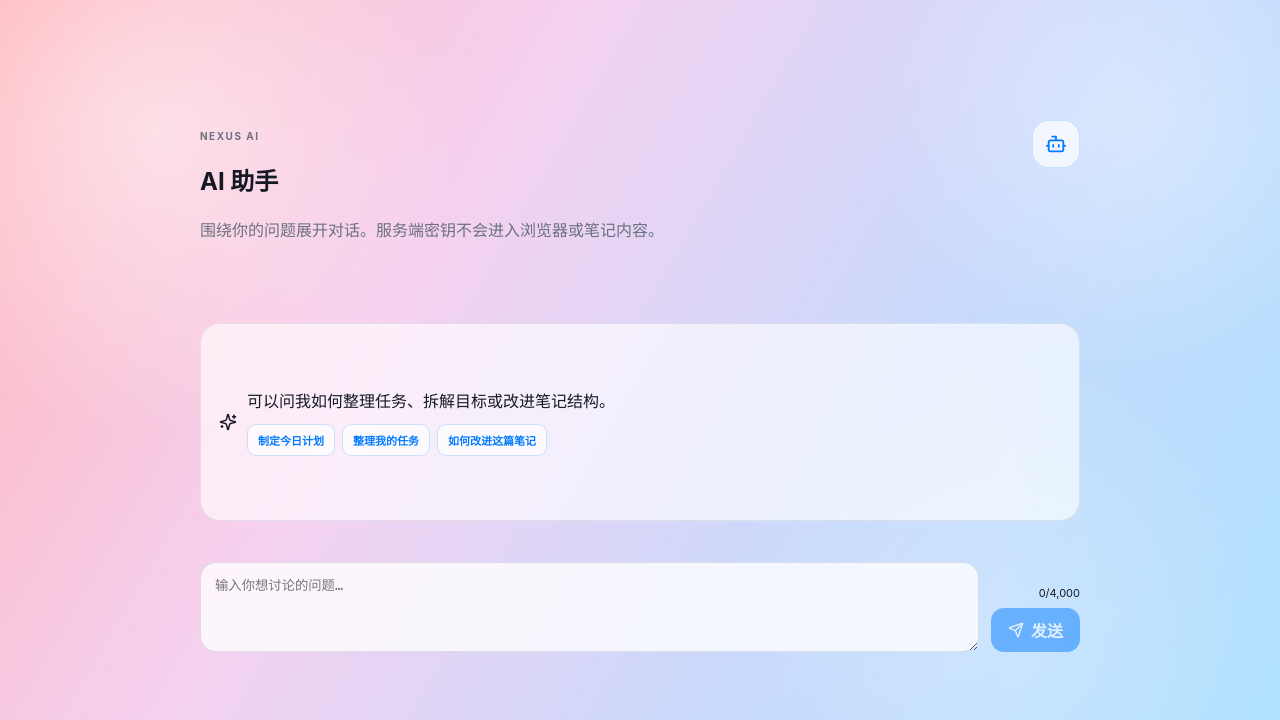
Test: AIChatPanel › keeps a useful recovery message when the server has not been configured
Type "你好" into the text box named "输入问题" at (590, 607), box x1=200 y1=562 x2=979 y2=652
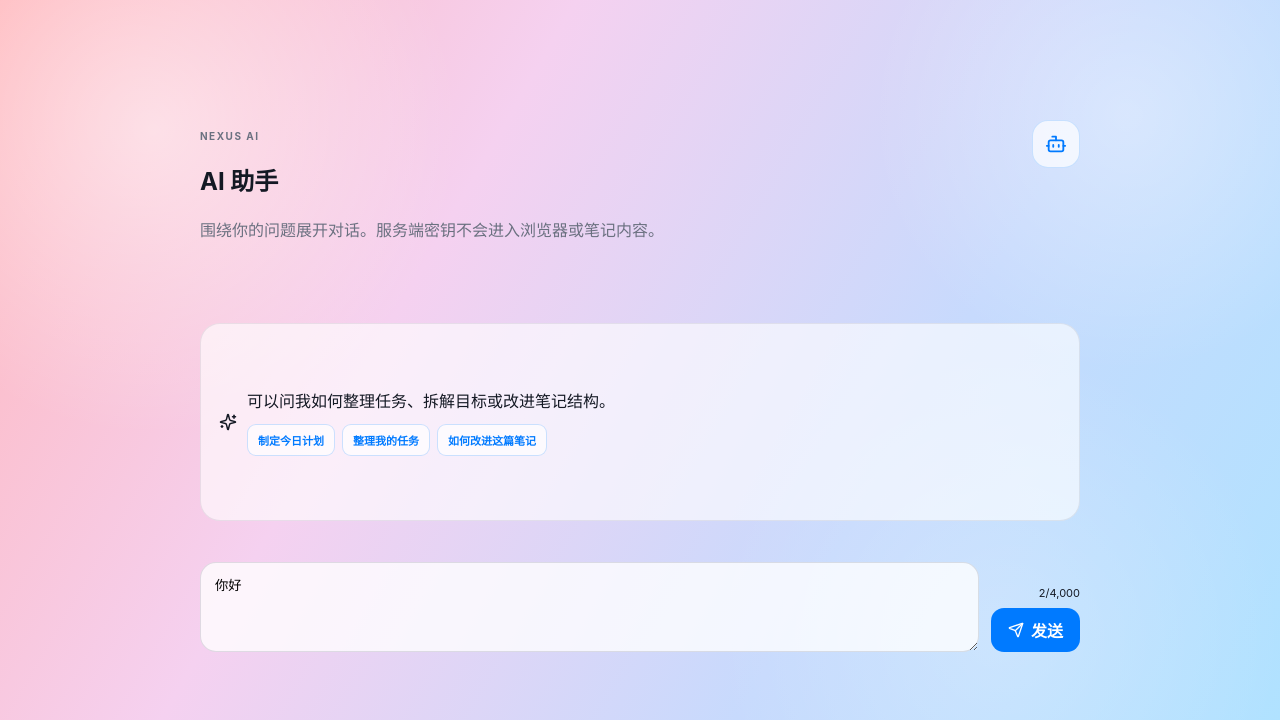
Click the button "发送" at (1036, 630), box x1=991 y1=608 x2=1080 y2=652
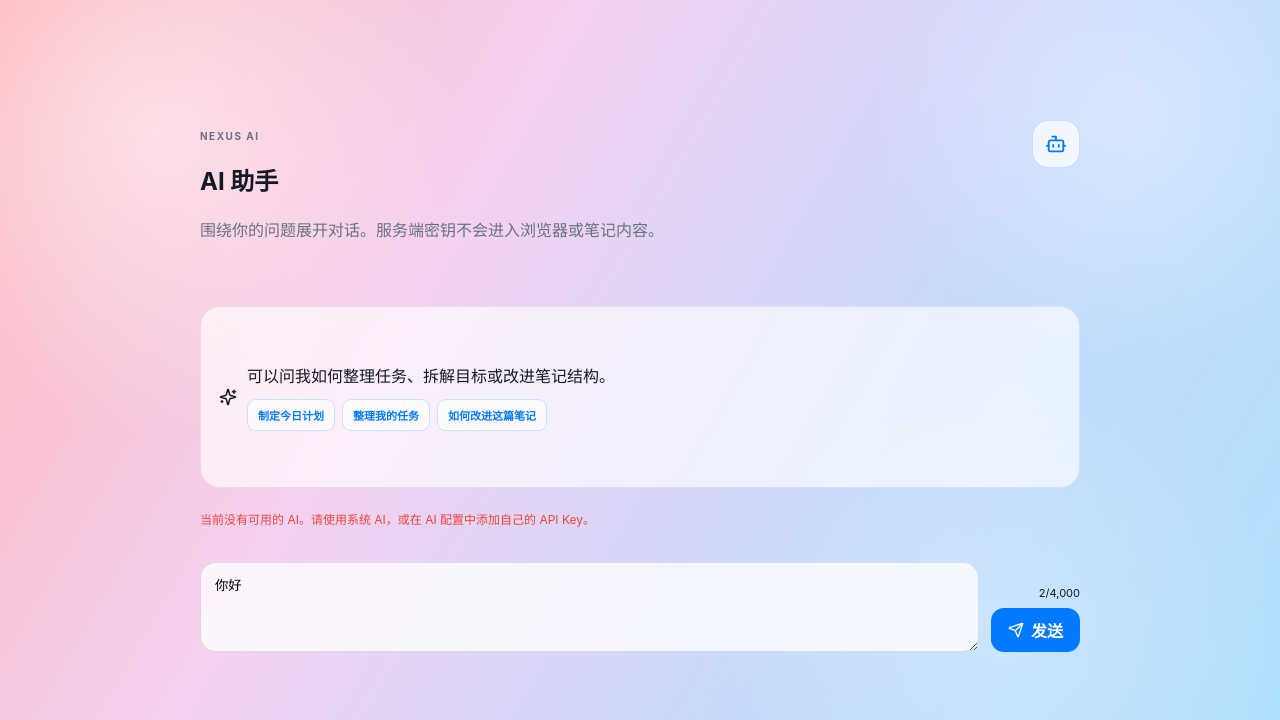
Expected: the message shows "当前没有可用的 AI", x1=200 y1=512 x2=595 y2=526
